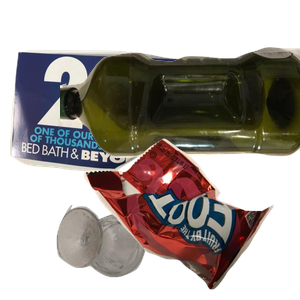glass: (54, 202, 193, 300)
paper: (10, 41, 242, 207)
plastic: (60, 44, 300, 195)
trash: (81, 136, 300, 300)
